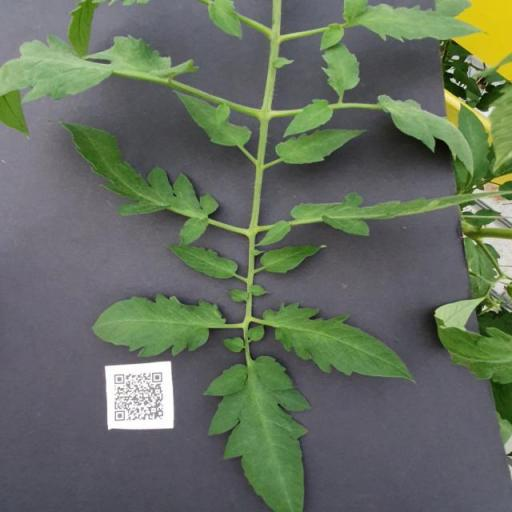Healthy: (59, 122, 219, 248), (205, 354, 311, 512), (262, 302, 416, 386), (92, 292, 226, 357), (378, 94, 474, 180), (342, 0, 482, 42), (172, 88, 252, 148), (275, 128, 366, 164), (160, 240, 238, 279), (322, 42, 362, 94), (260, 243, 326, 273)
